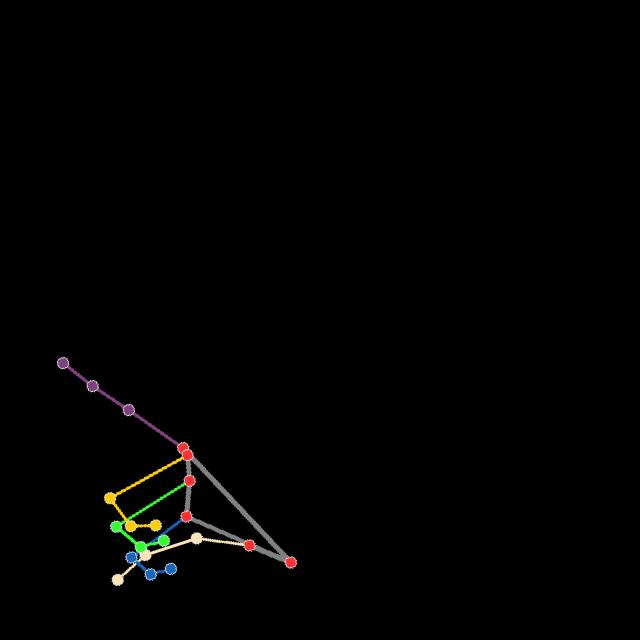gun: (54, 355, 299, 589)
